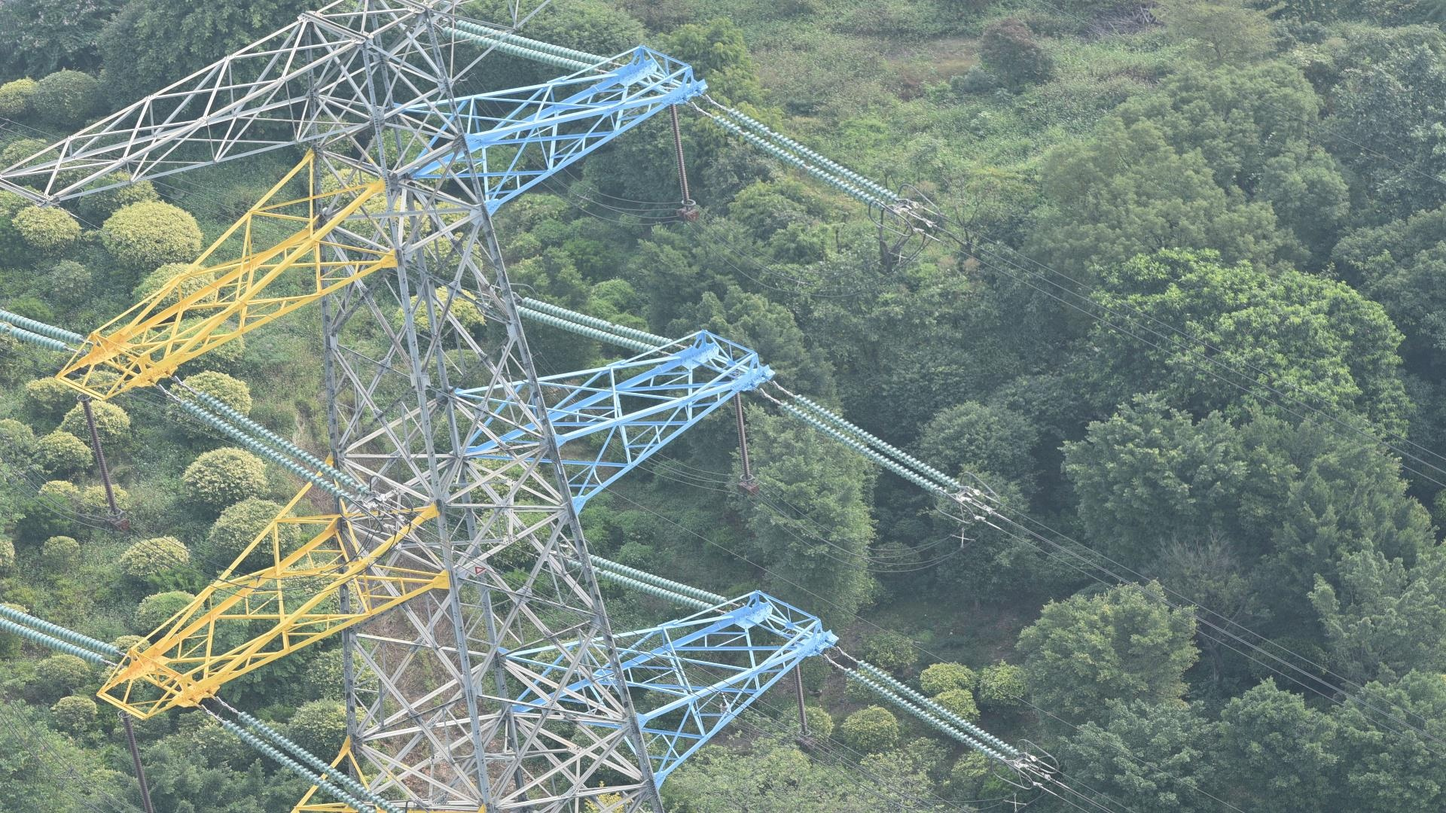insulator: (176, 389, 369, 506), (709, 106, 901, 212), (219, 708, 409, 813), (778, 392, 962, 500), (840, 658, 1020, 766), (566, 551, 731, 614), (440, 18, 615, 76), (514, 296, 676, 358), (1, 602, 120, 670), (81, 398, 119, 513), (1, 306, 85, 355), (668, 102, 691, 202), (733, 391, 752, 479), (793, 664, 809, 733)
